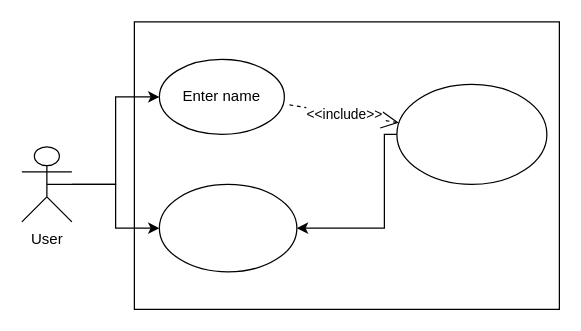
Some shapes in this 581 by 331 pixel diagram are drawn without their labels. Here are the shapes that lost their labels. From the top down, the box of each, then its label:
(396, 83, 547, 184): Display boxes
(158, 183, 297, 272): Enter character
